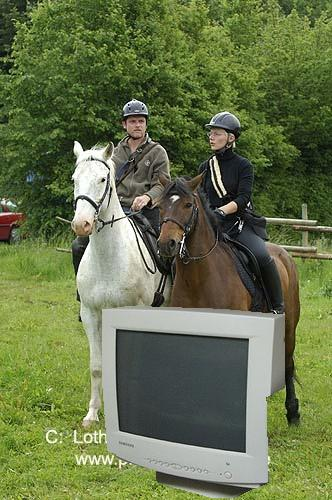tampered: (103, 307, 285, 498)
